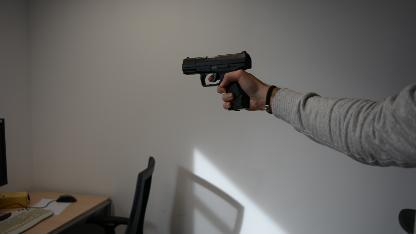pistol: (181, 50, 251, 112)
